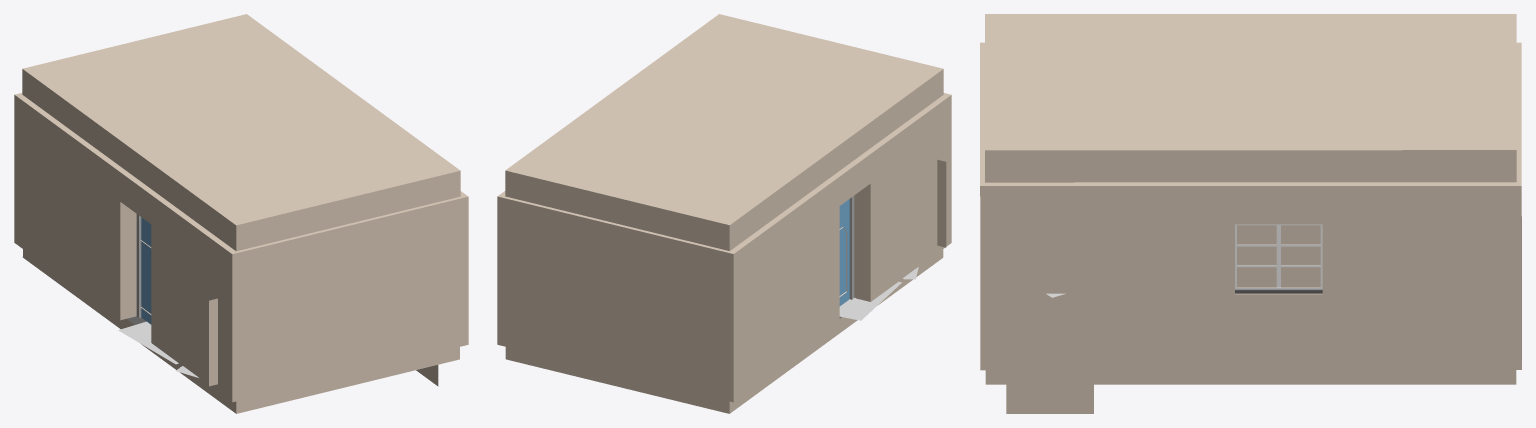
File: FloorPlan3_physics.fbx
3 views of the same model, side by side, from view 1: azimuth 30°, elevation 25°; view 2: azimuth 150°, elevation 25°; view 3: azimuth 270°, elevation 25° (orthographic). The views are drawn at different scales.
Visible parts, largest first — view 1: Wall, Ceiling, Baseboard, Door2, Decals_2, Decals_1, Doorframe; view 2: Wall, Ceiling, Baseboard, Door2, Decals_1, Decals_2, Doorframe; view 3: Wall, Ceiling, Baseboard, Baseboard.003, Decals_2, Baseboard.002.
Part boxes in pixels (<box>): Wall: <box>14,93,468,402</box>; Ceiling: <box>22,14,460,251</box>; Baseboard: <box>22,249,459,413</box>; Door2: <box>141,217,151,324</box>; Decals_2: <box>209,298,438,386</box>; Decals_1: <box>118,321,198,377</box>; Doorframe: <box>136,214,141,317</box>; Wall: <box>497,93,951,402</box>; Ceiling: <box>505,14,943,250</box>; Baseboard: <box>505,249,943,413</box>; Door2: <box>839,199,849,306</box>; Decals_1: <box>839,267,918,320</box>; Decals_2: <box>937,159,946,247</box>; Doorframe: <box>849,196,854,299</box>; Wall: <box>980,42,1521,370</box>; Ceiling: <box>985,14,1516,182</box>; Baseboard: <box>985,370,1516,384</box>; Baseboard.003: <box>1237,225,1320,287</box>; Decals_2: <box>1006,384,1093,413</box>; Baseboard.002: <box>1237,225,1320,287</box>.
Bounding box in the file's own units: 472 × 387 × 698.
